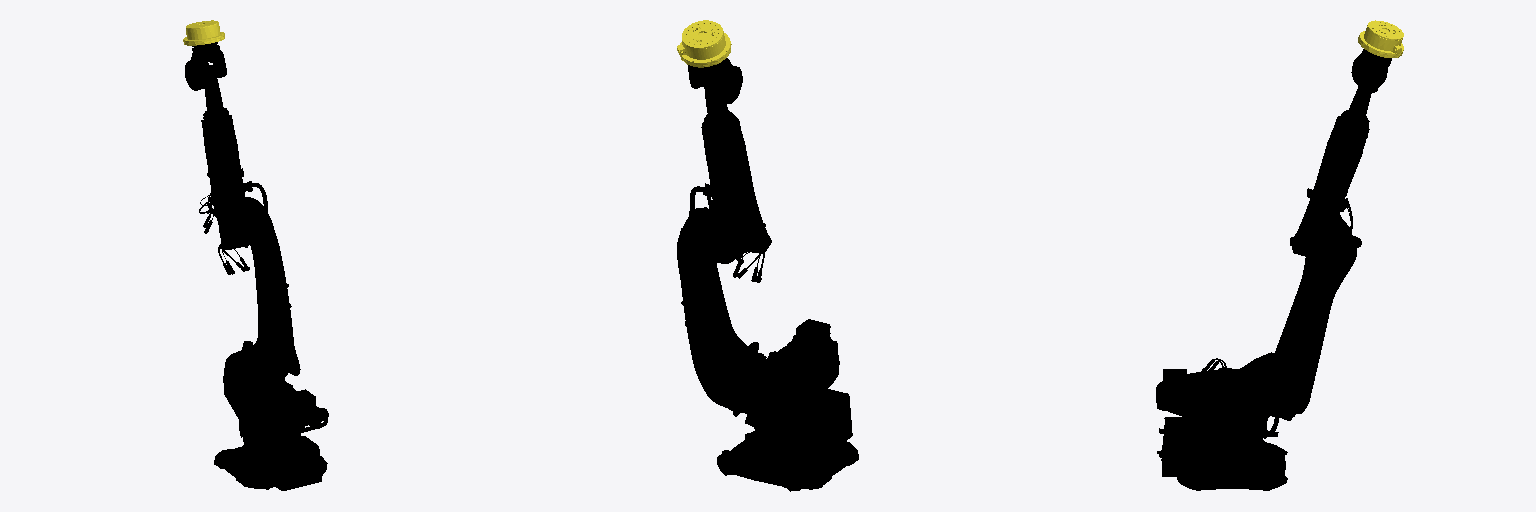
robot.urdf — kuka_kr_250_rail:
<?xml version="1.0" ?>

<robot name="kuka_kr_250_rail" xmlns:xacro="http://ros.org/wiki/xacro">
    <material name="metagrey"> <color rgba="1 1 1 1"/> </material>
  <material name="white_grey"> <color rgba="0.8 0.8 0.8 1"/> </material>
  <material name="black"> <color rgba="0.0 0.0 0.0 1"/> </material>
  <material name="white"> <color rgba="1 1 1 1"/> </material>
    <material name="darkblue"> <color rgba="0 0 0.5 1"/> </material>
        <material name="gold"> <color rgba="  0.82745      0.68627      0.21569 1"/> </material>

  <link name="world"/>

<!-- robot_link -->
  <link name="railink">
    <visual>
      <origin rpy="0 0 0" xyz="0 0 0"/>
      <geometry>
        <mesh filename="meshes/kr250/rail_rail.stl"/>
      </geometry>
      <material name="black"/>
    </visual>
   
  </link>
  <link name="raibase_link">
    <visual>
      <origin rpy="0 0 0" xyz="0 0 0"/>
      <geometry>
        <mesh filename="meshes/kr250/rail_base.stl"/>
      </geometry>
      <material name="black"/>
    </visual>
  
  </link>
  <link name="base_link">
    <visual>
      <origin rpy="0 0 0" xyz="0 0 0"/>
      <geometry>
        <mesh filename="meshes/kr250/kuka_kr_250_base_link.stl"/>
      </geometry>
      <material name="black"/>
    </visual>
   
    <inertial>
      <origin rpy="0 0 0" xyz="0 0 0"/>
      <mass value="257.693"/>
      <inertia ixx="5.9791" iyy="13.1238" izz="16.0208" iyz="-0.00780437" ixz="1.37877" ixy="0.0327832"/>
    </inertial>
  </link>
  <link name="link1">
    <visual>
      <origin rpy="0 0 0" xyz="0 0 0"/>
      <geometry>
        <mesh filename="meshes/kr250/kuka_kr_250_link1.stl"/>
      </geometry>
      <material name="black"/>
    </visual>
   
    <inertial>
      <origin rpy="0 0 0" xyz="0 0 0"/>
      <mass value="254.573"/>
      <inertia ixx="8.21089" iyy="15.5349" izz="13.9837" iyz="-0.23054" ixz=" 0.790915" ixy="1.29514"/>
    </inertial>
  </link>
  <link name="link2">
    <visual>
      <origin rpy="0 0 0" xyz="0 0 0"/>
      <geometry>
        <mesh filename="meshes/kr250/kuka_kr_250_link2.stl"/>
      </geometry>
      <material name="black"/>
    </visual>
   
    <inertial>
      <origin rpy="0 0 0" xyz="0 0 0"/>
      <mass value="331.528"/>
      <inertia ixx="5.60972" iyy="65.6326" izz="64.9414" iyz="-0.00657388" ixz=" 4.37003" ixy="0.180956"/>
    </inertial>
  </link>
  <link name="link3">
    <visual>
      <origin rpy="0 0 0" xyz="0 0 0"/>
      <geometry>
        <mesh filename="meshes/kr250/kuka_kr_250_link3.stl"/>
      </geometry>
      <material name="black"/>
    </visual>
   
    <inertial>
      <origin rpy="0 0 0" xyz="0 0 0"/>
      <mass value="172.325"/>
      <inertia ixx="1.66847" iyy="14.9789" izz="14.9091" iyz="0.0995061" ixz="-0.374194" ixy="0.0156184"/>
    </inertial>
  </link>
  <link name="link4">
    <visual>
      <origin rpy="0 0 0" xyz="0 0 0"/>
      <geometry>
        <mesh filename="meshes/kr250/kuka_kr_250_link4.stl"/>
      </geometry>
      <material name="black"/>
    </visual>
  
    <inertial>
      <origin rpy="0 0 0" xyz="0 0 0"/>
      <mass value="18.8575"/>
      <inertia ixx="0.332037" iyy="0.33071" izz="0.0462583" iyz="-8.34095e-06" ixz="0.0151001" ixy="3.83858e-06"/>
    </inertial>
  </link>
  <link name="link5">
    <visual>
      <origin rpy="0 0 0" xyz="0 0 0"/>
      <geometry>
        <mesh filename="meshes/kr250/kuka_kr_250_link5.stl"/>
      </geometry>
      <material name="black"/>
    </visual>

    <inertial>
      <origin rpy="0 0 0" xyz="0 0 0"/>
      <mass value="25.5148"/>
      <inertia ixx="0.367292" iyy="0.533284" izz="0.378389" iyz="-4.25692e-05" ixz="0.10984" ixy="-0.000112698"/>
    </inertial>
  </link>
  <link name="link6">
    <visual>
      <origin rpy="0 0 0" xyz="0 0 0"/>
      <geometry>
        <mesh filename="meshes/kr250/kuka_kr_250_link6.stl"/>
      </geometry>
      <material name="black"/>
    </visual>
   
    <inertial>
      <origin rpy="0 0 0" xyz="0 0 0"/>
      <mass value="2.15518"/>
      <inertia ixx="0.00809075" iyy="0.00810687" izz="0.0156025" iyz="2.33201e-07" ixz="2.37544e-07" ixy="2.74403e-07"/>
    </inertial>
  </link>
<!-- robot_joint -->

  <joint name="jointE" type="prismatic">
    <parent link="railink"/>     
    <child link="raibase_link"/>  
    <!--     <origin rpy="0.0 0.0 0.0" xyz="0.0 0.0 0.363"/> -> 실제 높이 -->
    <origin rpy="0.0 0.0 0.0" xyz="0.665 0.0 0.38"/>
    <axis xyz="1 0 0"/>
    <limit effort="100000" lower="0" upper="3.2289" velocity="1000"/>
  </joint>
  <joint name="joint1" type="revolute">
    <parent link="base_link"/>     
    <child link="link1"/>  
    <origin rpy="3.14159265358 0.0 0.0" xyz="0.0 0.0 0.2356"/>
    <axis xyz="0 0 1"/>
    <limit effort="100000" lower="-3.2289" upper="3.2289" velocity="1000"/>
    <!-- <limit effort="100000" lower="-3.05432619099" upper="3.05432619099" velocity="1000"/> -->
  </joint>
  <joint name="joint2" type="revolute">
    <parent link="link1"/>  
    <child link="link2"/>  
    <origin rpy="1.57079632679 0.0 0.0" xyz="0.33 0.0 -0.4094"/>
    <axis xyz="0 0 1"/>
    <limit effort="100000" lower="-2.4435" upper="-0.0873" velocity="1000"/>
    <!-- <limit effort="100000" lower="-3.05432619099" upper="3.05432619099" velocity="1000"/> -->
  </joint>
  <joint name="joint3" type="revolute">
    <parent link="link2"/> 
    <child link="link3"/>    
    <origin rpy="0.0 0.0 0.0" xyz="1.15 0.0 -0.095"/>
    <axis xyz="0 0 1"/>
    <limit effort="100000" lower="-2.0944" upper="2.9322" velocity="1000"/>
    <!-- <limit effort="100000" lower="-3.05432619099" upper="3.05432619099" velocity="1000"/> -->
  </joint>
  <joint name="joint4" type="revolute">
    <parent link="link3"/>  
    <child link="link4"/>   
    <origin rpy="0.0 -1.57079632679 0.0" xyz="0.8785 -0.115 0.095"/>
    <axis xyz="0 0 1"/>
    <limit effort="100000" lower="-6.1087" upper="6.1087" velocity="1000"/>
    <!-- <limit effort="100000" lower="-3.05432619099" upper="3.05432619099" velocity="1000"/> -->
  </joint>
  
  <joint name="joint5" type="revolute">
    <parent link="link4"/>  
    <child link="link5"/>   
    <origin rpy="0.0 1.57079632679 0.0" xyz="0.059 0.0 -0.3415"/>
    <axis xyz="0 0 1"/>
    <limit effort="100000" lower="-2.1380" upper="2.1380" velocity="1000"/>
    <!-- <limit effort="100000" lower="-3.05432619099" upper="3.05432619099" velocity="1000"/> -->
  </joint>
  
  <joint name="joint6" type="revolute">
    <parent link="link5"/>  
    <child link="link6"/>    
    <origin rpy="0.0 -1.57079632679 0.0" xyz="0.21 0.0 -0.059"/>
    <axis xyz="0 0 1"/>
    <limit effort="100000" lower="-6.1087" upper="6.1087" velocity="1000"/>
    <!-- <limit effort="100000" lower="-3.05432619099" upper="3.05432619099" velocity="1000"/> -->

  </joint>

  <link name="tcp">
    <!-- <collision>
      <geometry>
        <box size="0.01 0.01 0.01"/>
      </geometry>
      <origin rpy="0 0 0" xyz="-0.01 0 0"/>
    </collision> -->
    <inertial>
      <mass value="0"/>
      <origin rpy="0 0 0" xyz="0.0 0.0 0.0"/>
      <inertia ixx="0.0" ixy="0.0" ixz="0.0" iyy="0.0" iyz="0.0" izz="0.0"/>
    </inertial>
  </link>

  <link name="FTSensor">
    <visual>
      <geometry>
        <mesh filename="meshes/ft_sensor.stl"/>
      </geometry>
      <origin rpy="0 0 0" xyz="0.00 0 0"/>
    </visual>
    <inertial>
      <mass value="0.001"/>
      <origin rpy="0 0 0" xyz="0.0 0.0 0.0"/>
      <inertia ixx="0.0" ixy="0.0" ixz="0.0" iyy="0.0" iyz="0.0" izz="0.0"/>
    </inertial>
  </link>


  <joint name="raibase_joint" type="fixed">
    <parent link="raibase_link"/>     
    <child link="base_link"/>  
    <origin rpy="0.0 0.0 -1.57079632679" xyz="-0.2 0.0 0.0"/>
  </joint> 
  <joint name="tcp_joint" type="fixed">
    <parent link="link6"/>
    <child link="tcp"/>
    <origin rpy="3.1415926536 0.0 1.5707963268" xyz="0.0 0.0 -0.03"/>
  </joint> 
  <joint name="ft_sensor_joint" type="fixed">
    <parent link="tcp"/>
    <child link="FTSensor"/>
    <origin rpy="0.0 0  3.1415926536" xyz="0.0 0.0 0.1048"/>
  </joint> 

  <joint name="world_joint" type="fixed">
    <parent link="world"/>
    <child link="railink"/>
    <origin rpy="0.0 0.0 3.141592" xyz="7.2 0 0"/>
  </joint>
</robot>

--- What the picture shows (computed from the rendered views, not written in the file) ---
The picture shows the robot from 3 angles, left to right: view 1: azimuth 30°, elevation 25°; view 2: azimuth 150°, elevation 25°; view 3: azimuth 270°, elevation 25°; orthographic projection.
Model kuka_kr_250_rail with 12 links and 11 joints (6 revolute, 1 prismatic, 4 fixed), rooted at world, posed joints at zero except 1 at the middle of their limits (joint2 = -1.27).
Visible links, largest first — view 1: link1, link2, link3, base_link, link5, FTSensor, link4; view 2: link2, link1, base_link, link3, FTSensor, link5, link4; view 3: link2, link1, base_link, link3, FTSensor, link5, link4.
Boxes of the visible links, x1,y1,x2,y2 form: link1: (223,350,328,446); link2: (242,198,300,379); link3: (199,114,267,274); base_link: (214,436,327,490); link5: (185,44,226,90); FTSensor: (183,20,224,45); link4: (203,65,228,117); link2: (677,207,766,416); link1: (720,319,839,442); base_link: (717,389,858,491); link3: (680,117,771,282); FTSensor: (677,20,731,67); link5: (688,58,742,103); link4: (702,75,735,132); link2: (1242,224,1361,420); link1: (1156,352,1295,448); base_link: (1157,417,1287,490); link3: (1290,116,1369,260); FTSensor: (1358,20,1403,57); link5: (1351,49,1391,92); link4: (1341,65,1382,127).
Size in the robot's own frame: 0.7816 by 1.69 by 3.33 metres.
8 mesh visuals loaded from 10 distinct referenced files (8 binary STL); not drawn: 2 (reference not matched to a file when rendering).
